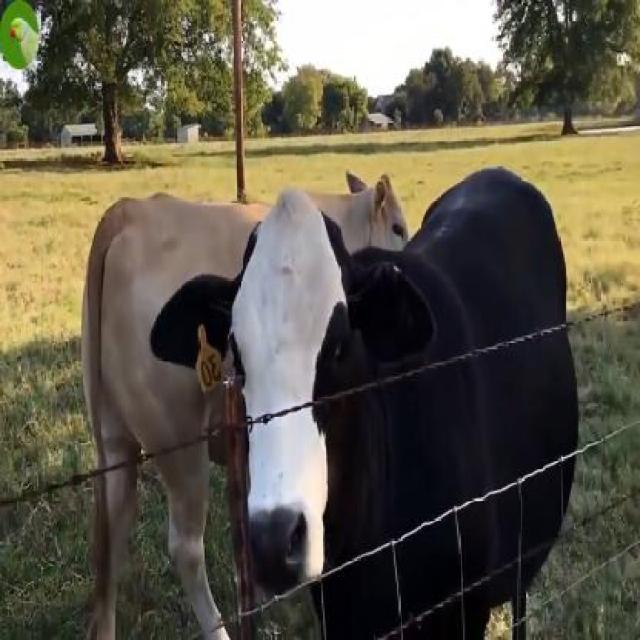Cow: (151, 170, 578, 638)
